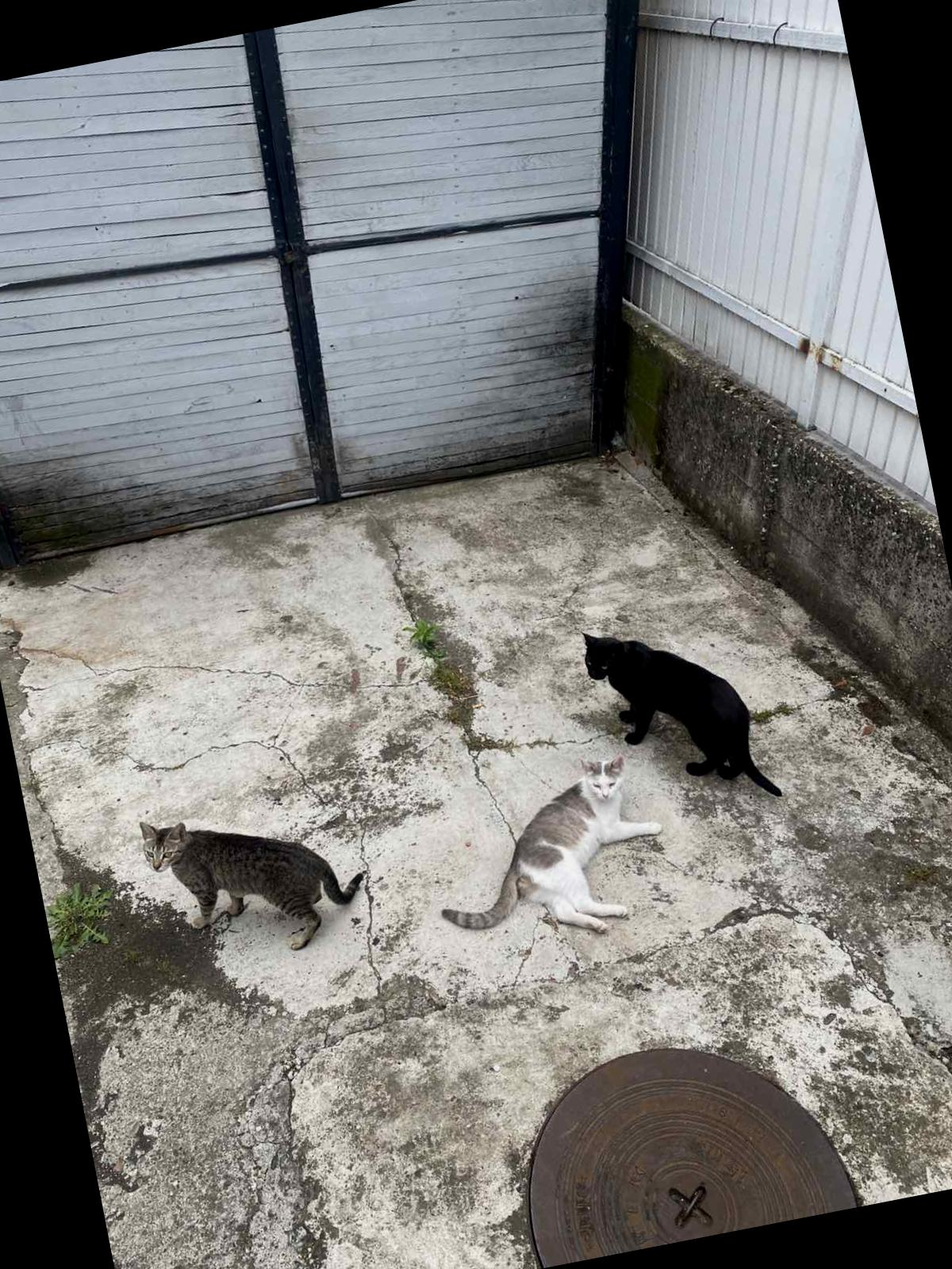macka: (418, 743, 679, 962), (137, 779, 379, 975), (578, 598, 782, 828)
